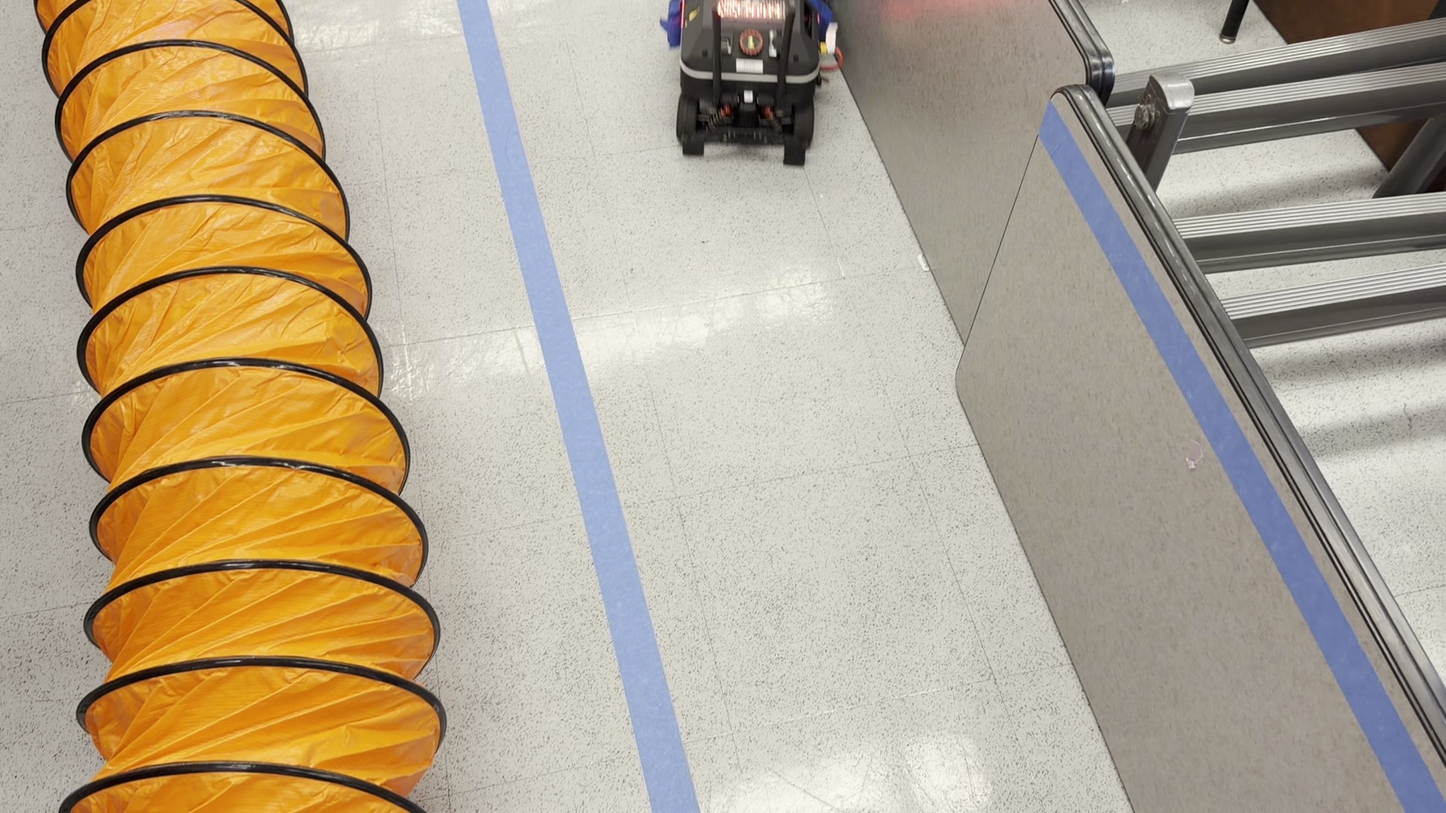racecar: (665, 3, 839, 168)
